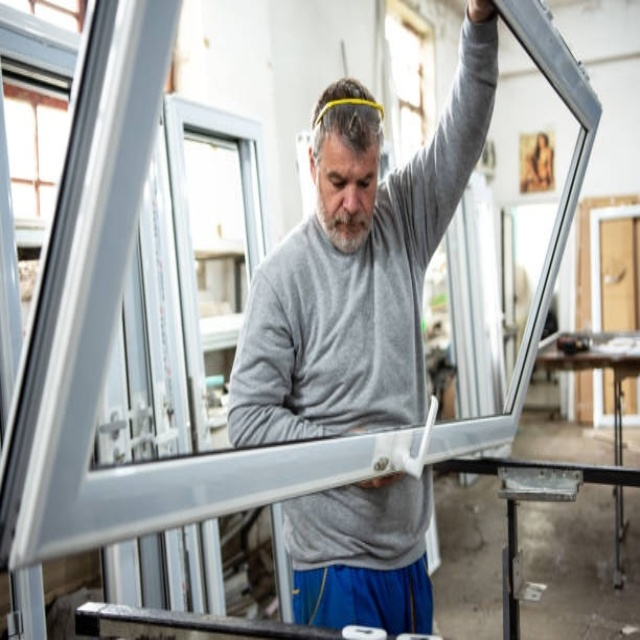Sin_gafas: (322, 163, 378, 191)
Sin_mascara: (329, 210, 369, 243)
